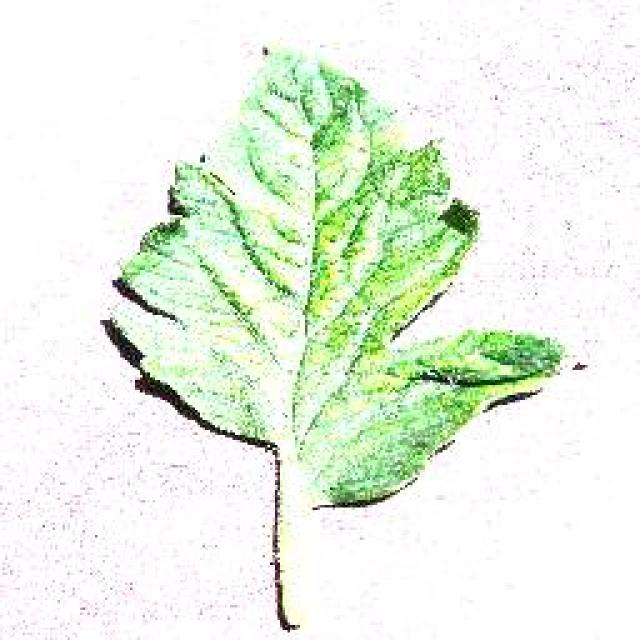Tomato___Tomato_mosaic_virus: (112, 48, 562, 618)
